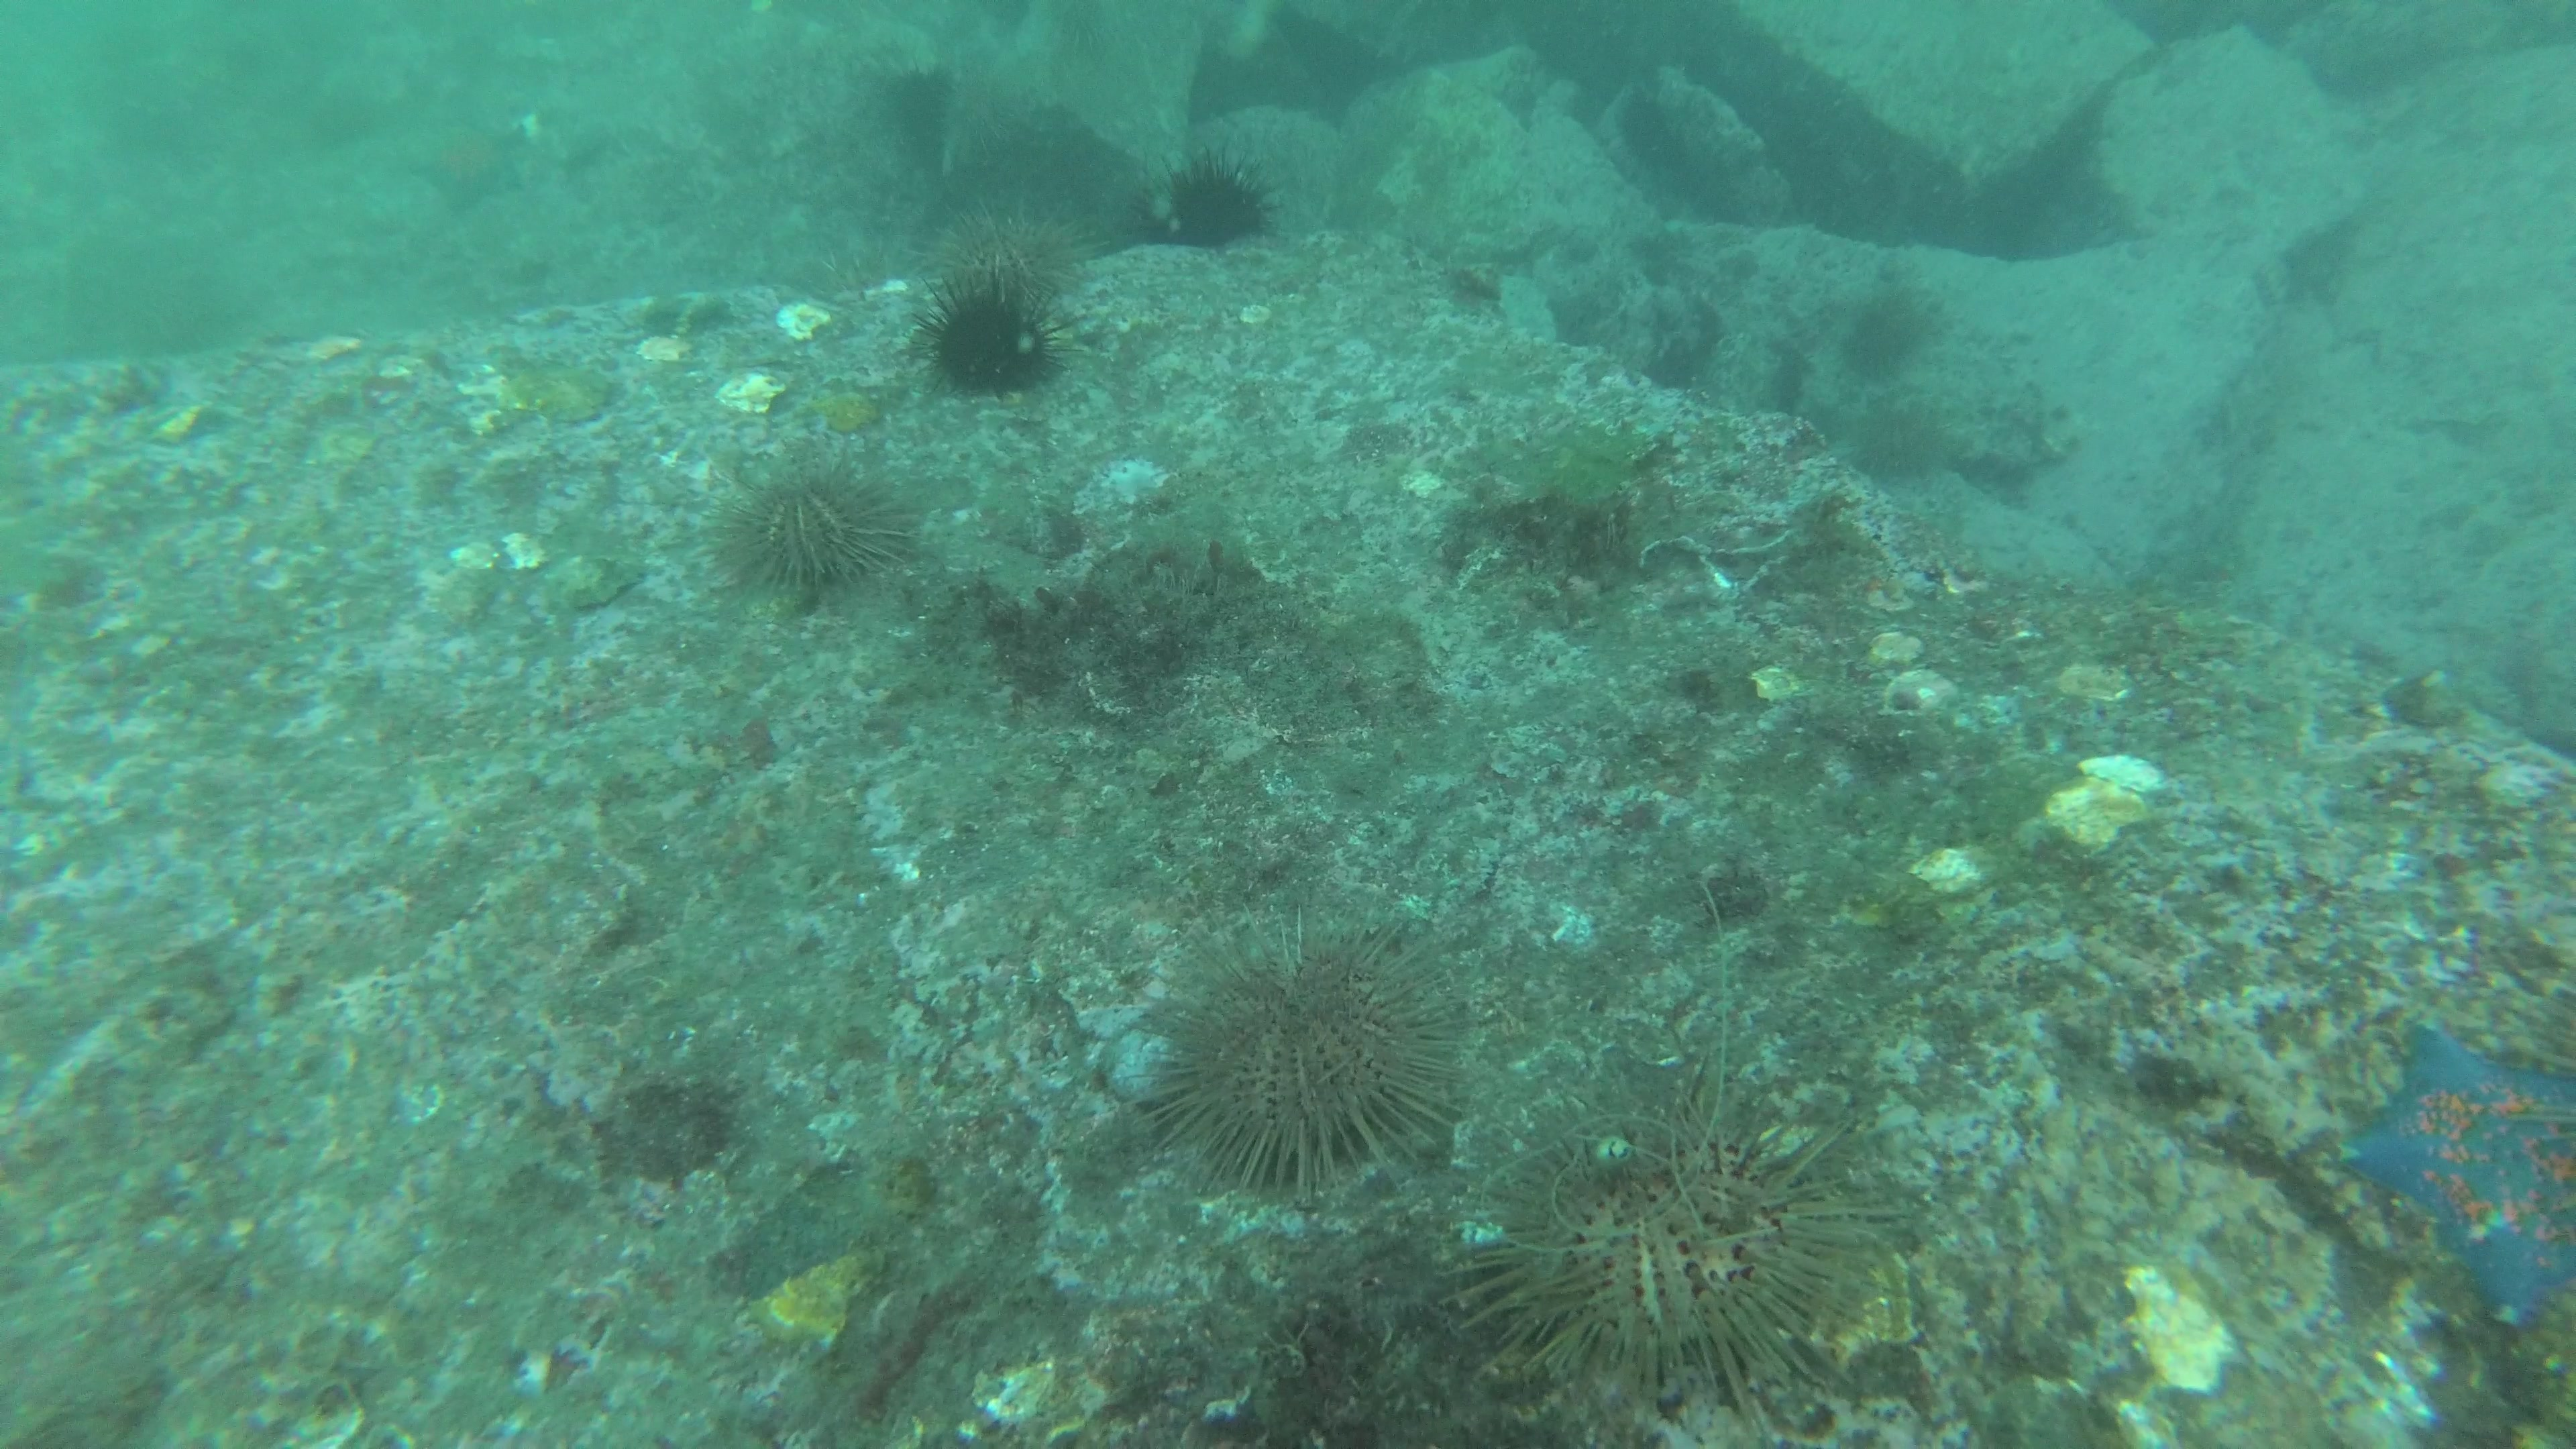echinus: (1484, 1072, 1872, 1389), (1136, 961, 1454, 1177), (725, 462, 909, 591), (916, 211, 1099, 304), (916, 276, 1056, 391), (1157, 152, 1270, 253), (1845, 410, 1932, 479), (1840, 310, 1927, 375)
starfish: (2337, 1014, 2576, 1322)
